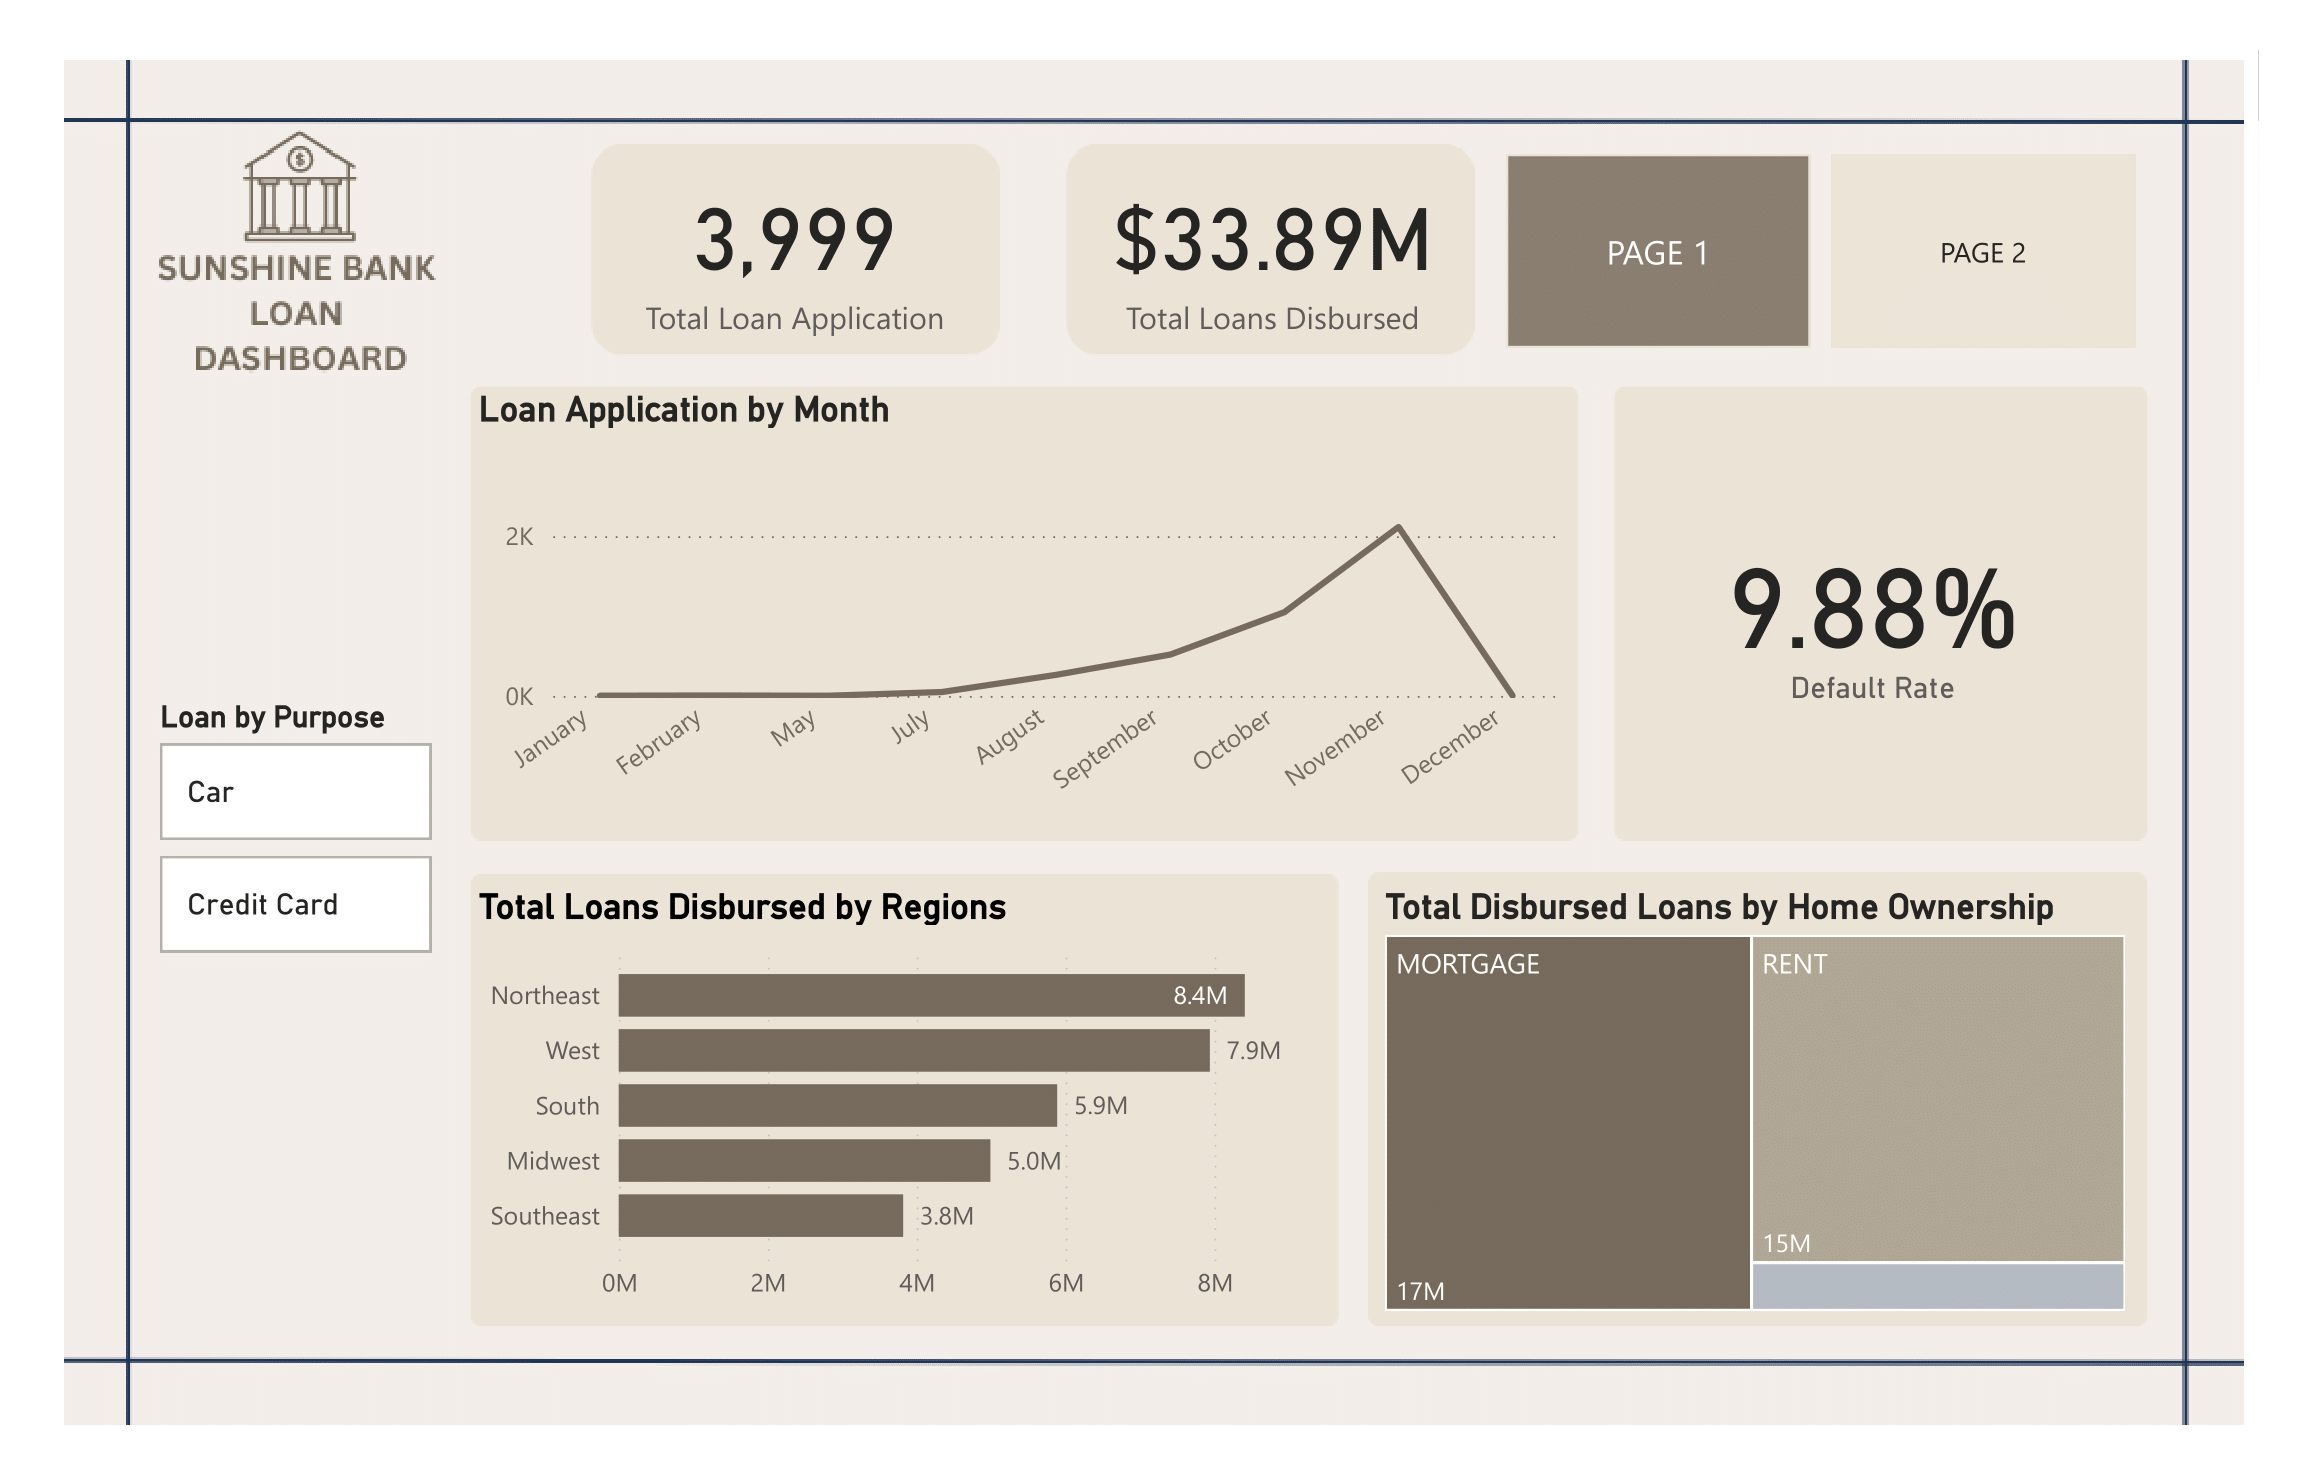

The page's visual inventory and layout, read from the dashboard file:
{"tool":"powerbi","page":{"name":"PAGE 1","canvas":[1060,664],"ordinal":0},"visuals":[{"type":"image","box":[0,0,1060,664.7],"z":0},{"type":"lineChart","title":"Loan Application by Month","fields":{"Y":["CountNonNull(Sunshine_Loan_Query.Loan_Id)"],"Category":["Sunshine_Loan_Query.Issue_Date.Variation.Date Hierarchy.Month"]},"box":[200.5,162,528.5,213.8],"z":1000},{"type":"barChart","title":"Total Loans Disbursed by Regions","fields":{"Category":["Sunshine_Loan_Query.Regions"],"Y":["Sum(Sunshine_Loan_Query.Loan_Amount)"]},"box":[200.5,401.1,414.3,208.5],"z":2000},{"type":"treemap","title":"Total Disbursed Loans by Home Ownership","fields":{"Group":["Sunshine_Loan_Query.Home_Ownership"],"Values":["Sum(Sunshine_Loan_Query.Loan_Amount)"]},"box":[636.1,401.1,365.2,208.5],"z":4000},{"type":"card","fields":{"Values":["Regions_Table.Total Loan Application"]},"box":[262.9,50.5,188.6,93],"z":5000},{"type":"card","fields":{"Values":["Calculated Measures.Total Loans Disbursed"]},"box":[492.7,50.5,188.6,93],"z":6000},{"type":"pageNavigator","box":[698.8,50.3,303.5,93.3],"z":7000},{"type":"advancedSlicerVisual","title":"Loan by Purpose","fields":{"Values":["Sunshine_Loan_Query.Loan_Purpose"]},"box":[47.8,312.1,140.8,127.5],"z":8000},{"type":"card","fields":{"Values":["Calculated Measures.Default Rate"]},"box":[749,162,252.3,213.8],"z":8001}]}

Visuals, with their boxes in screenshot pixels (x1, y1, x2, y2):
image: <box>50,50,2258,1434</box>
"Loan Application by Month" lineChart: <box>468,388,1569,833</box>
"Total Loans Disbursed by Regions" barChart: <box>468,886,1331,1321</box>
"Total Disbursed Loans by Home Ownership" treemap: <box>1375,886,2136,1321</box>
card - Regions_Table.Total Loan Application: <box>598,155,990,349</box>
card - Calculated Measures.Total Loans Disbursed: <box>1076,155,1469,349</box>
pageNavigator: <box>1506,155,2138,349</box>
"Loan by Purpose" advancedSlicerVisual: <box>150,701,443,966</box>
card - Calculated Measures.Default Rate: <box>1610,388,2136,833</box>
